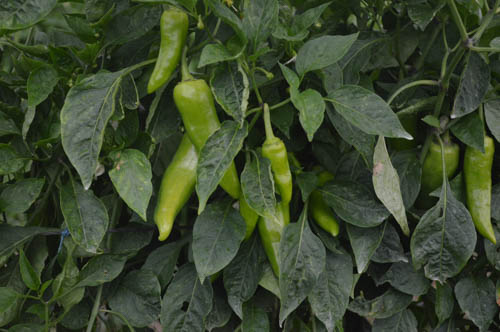ChiliPepper: (176, 82, 239, 196), (154, 137, 197, 240), (464, 140, 497, 242), (149, 13, 184, 97), (265, 139, 292, 201), (420, 143, 455, 190), (305, 192, 340, 235), (262, 213, 285, 273), (232, 198, 256, 238)
